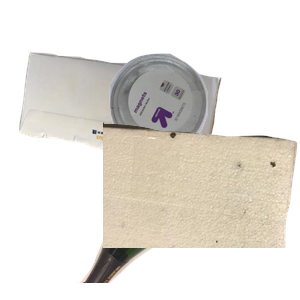glass: (66, 120, 279, 300)
paper: (17, 50, 231, 230)
plastic: (107, 51, 300, 199)
trash: (103, 120, 300, 300)
